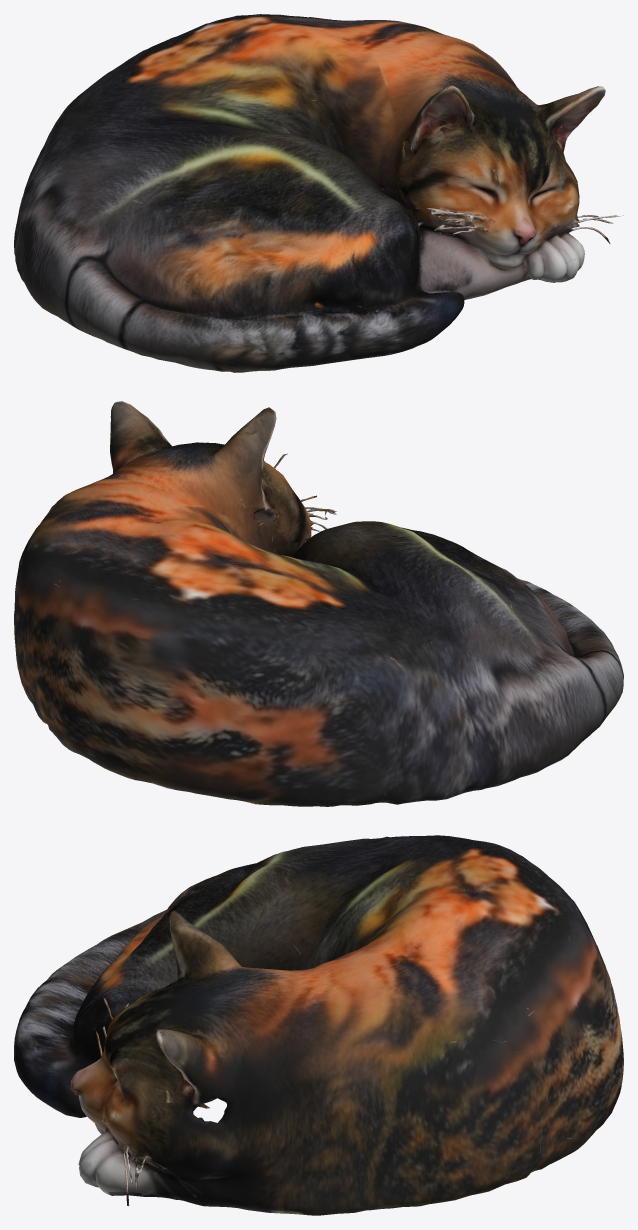
File: cat_5_v2.glb
3 views of the same model, one above another, from view 1: azimuth 30°, elevation 25°; view 2: azimuth 150°, elevation 25°; view 3: azimuth 270°, elevation 25° (orthographic). The views are drawn at different scales.
Parts seen in each view (by area): view 1: Mesh_0.003; view 2: Mesh_0.003; view 3: Mesh_0.003.
Boxes of the visible parts, x1,y1,x2,y2 form: Mesh_0.003: [14, 14, 623, 372]; Mesh_0.003: [14, 401, 623, 806]; Mesh_0.003: [14, 835, 623, 1215].
Bounding box in the file's own units: 1.93 × 0.7314 × 1.71.
Materials: 1 (1 with a texture image).
